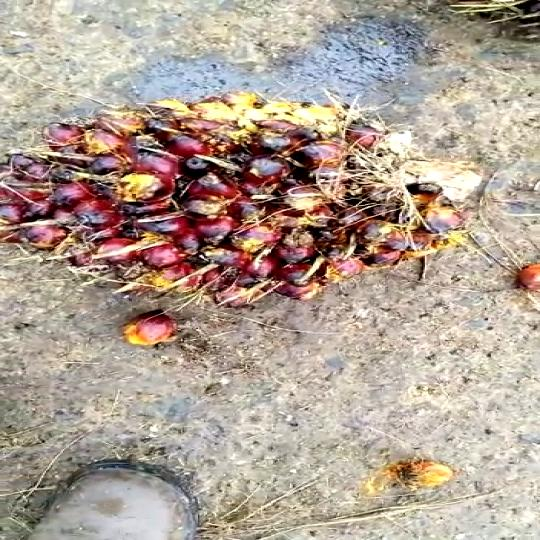kurang masak: (0, 89, 506, 326)
